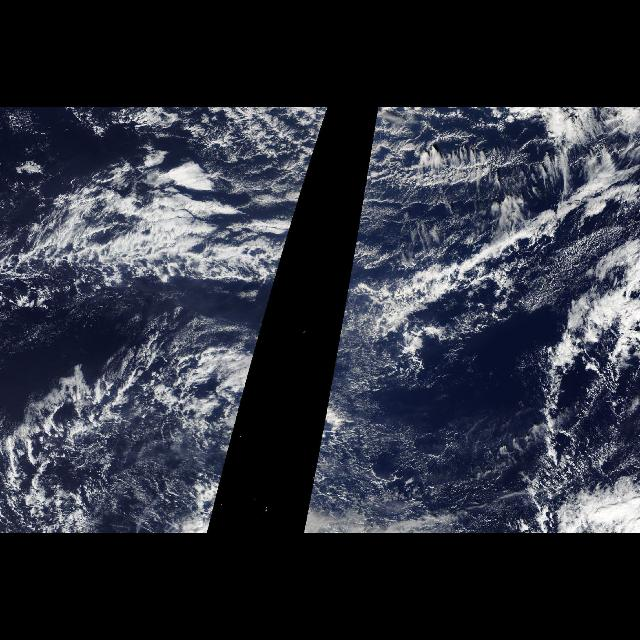Fish: (1, 150, 285, 328), (340, 248, 362, 328)
Gravel: (3, 346, 235, 524)
Sugar: (316, 350, 528, 504), (352, 182, 492, 266), (108, 422, 214, 510)
